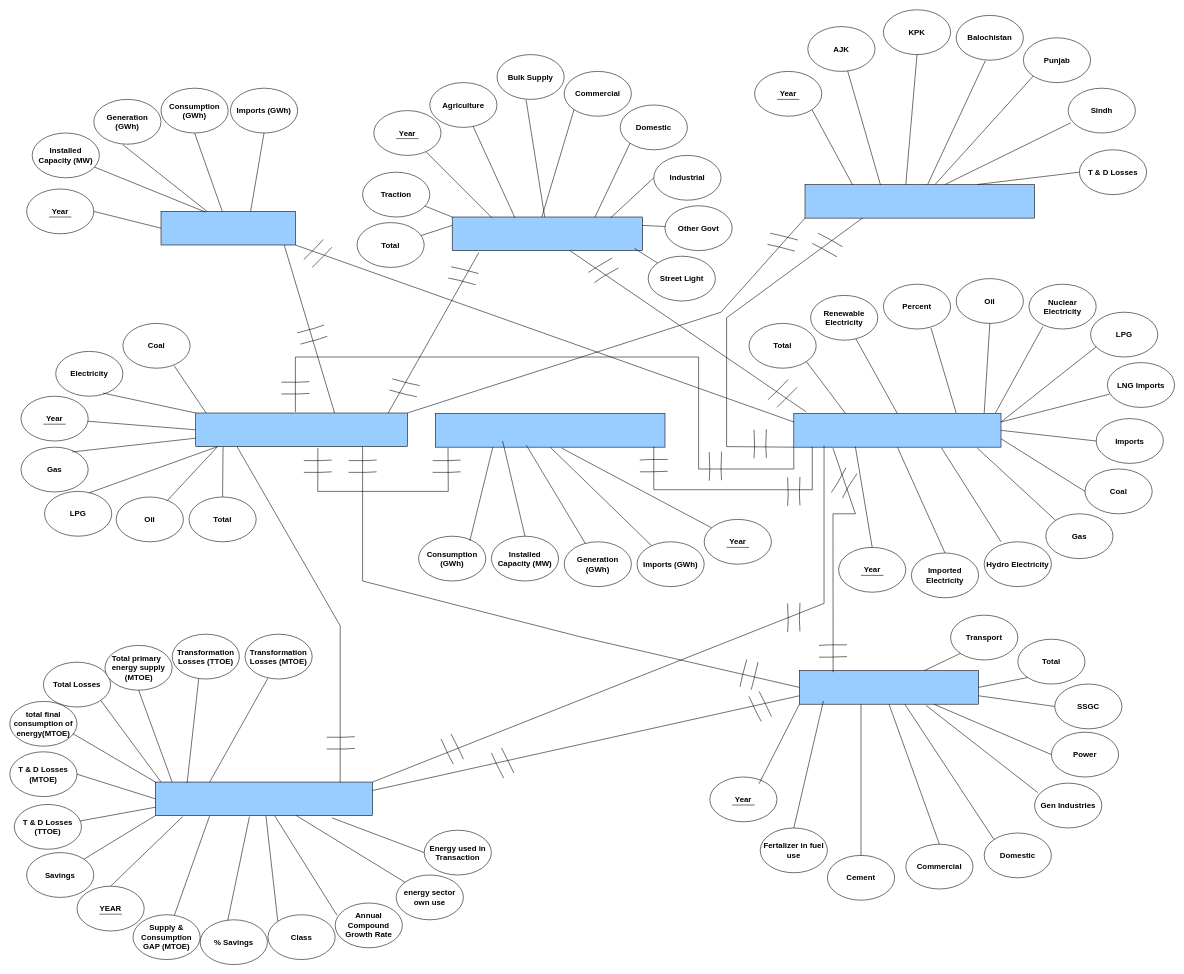
Some shapes in this 1184 by 974 pixel diagram are drawn without their labels. The centre of each missing label's shape, as x and y in pixels:
annual_electricity_data: the point at 227,228
electrcicity_consumption_by_sector: the point at 547,233
energy_supply_and_consumption_analyisis: the point at 264,798
final_energy_consumption_by_source_toe: the point at 301,429
natural_gas_production_and_consumption: the point at 550,430
primary_energy_supplies_by_source_toe: the point at 897,430
province_wise_electricity_consumption_gwh: the point at 919,201
sector_wise_energy_consumption: the point at 889,687
